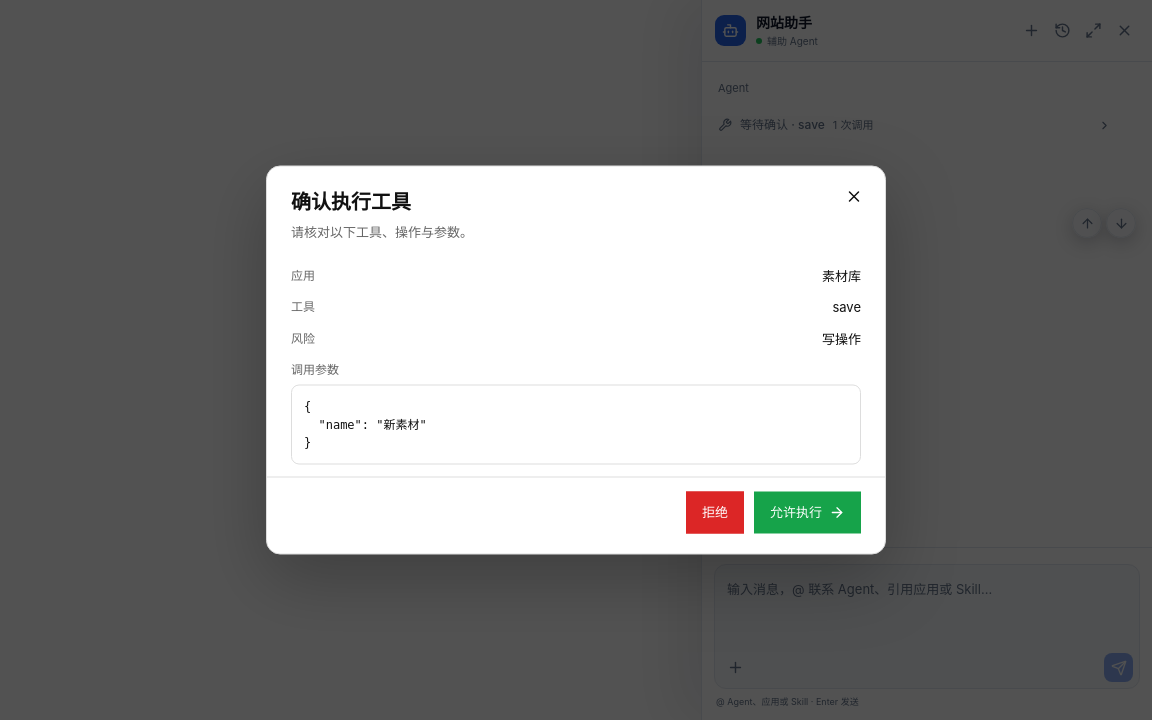
AgentSidebar › 确认工具时展示参数，宿主失败可重试并可拒绝
Expected: the text "{ \"name\": \"新素材\" }" is shown, x1=291 y1=384 x2=861 y2=464
Expected: the text "写操作" is shown, x1=822 y1=329 x2=861 y2=348
Step 1. Click the button "允许执行" → click(808, 512), box x1=754 y1=492 x2=861 y2=534
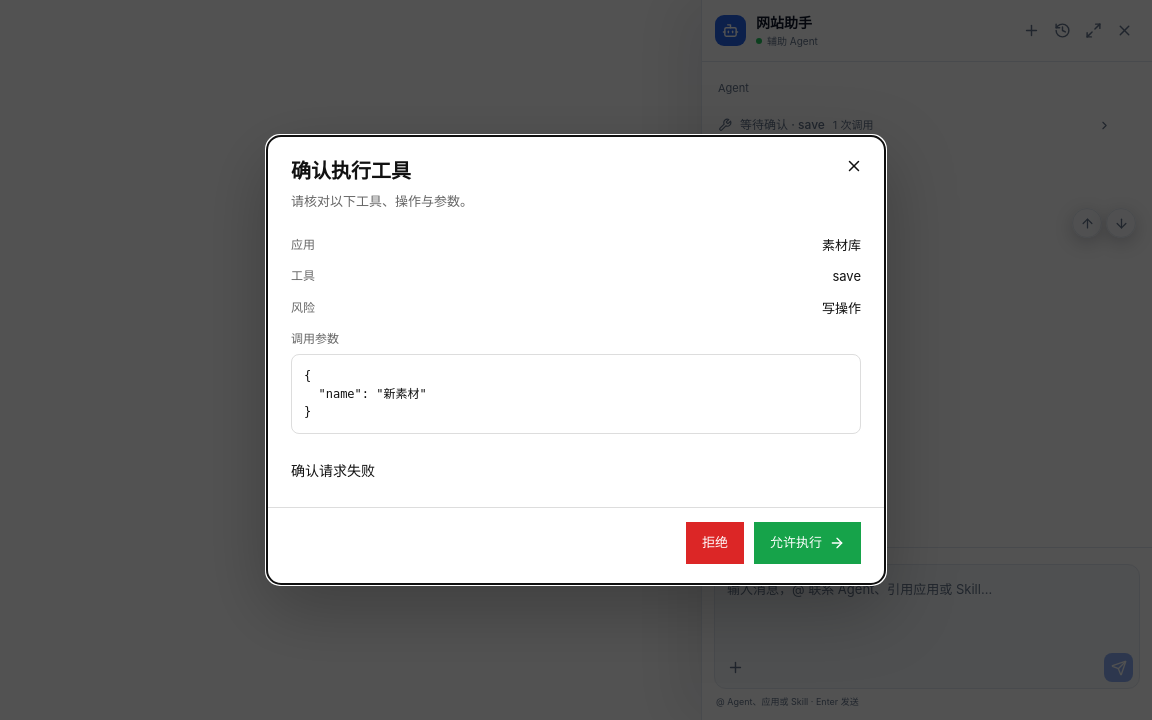
Expected: the message reads "确认请求失败", x1=291 y1=462 x2=375 y2=479
Step 2. Click the button "拒绝" → click(715, 543), box x1=686 y1=522 x2=744 y2=564
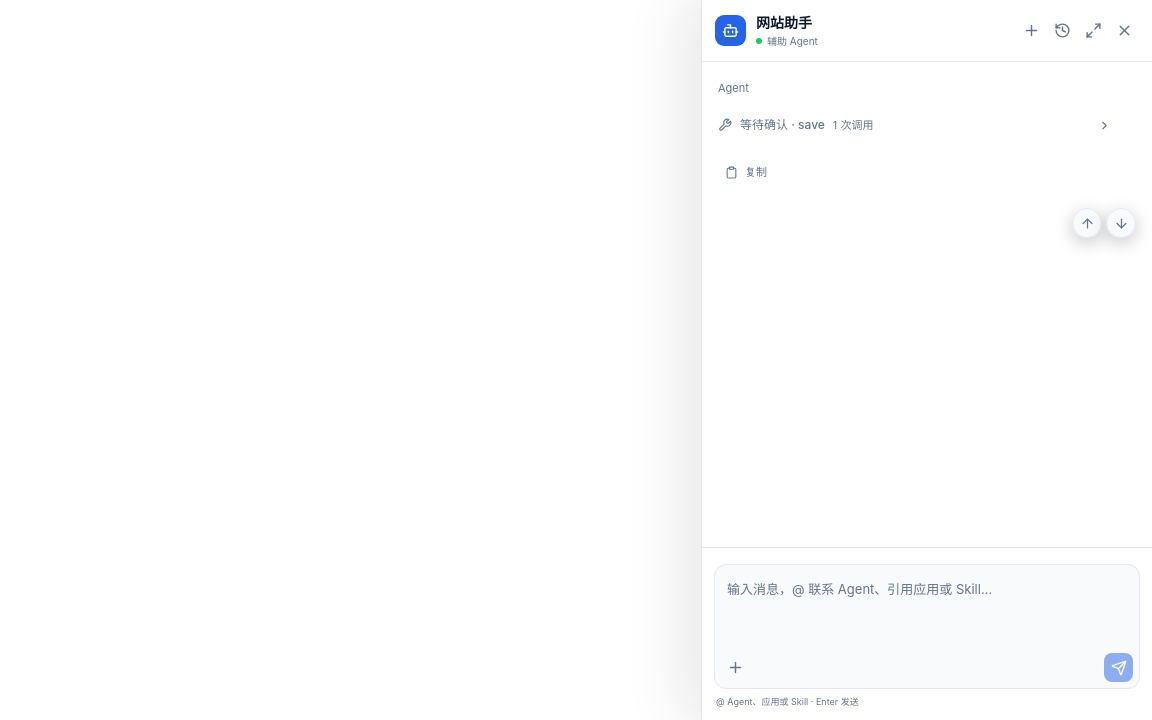
Expected: the heading "确认执行工具" is gone
